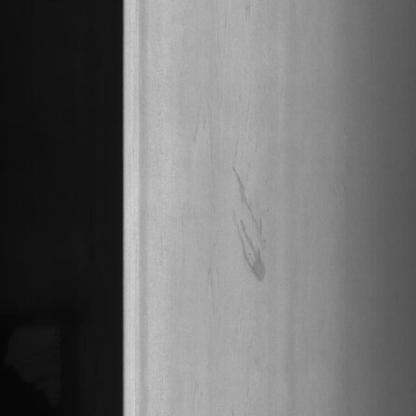water_spot: (227, 159, 284, 278)
